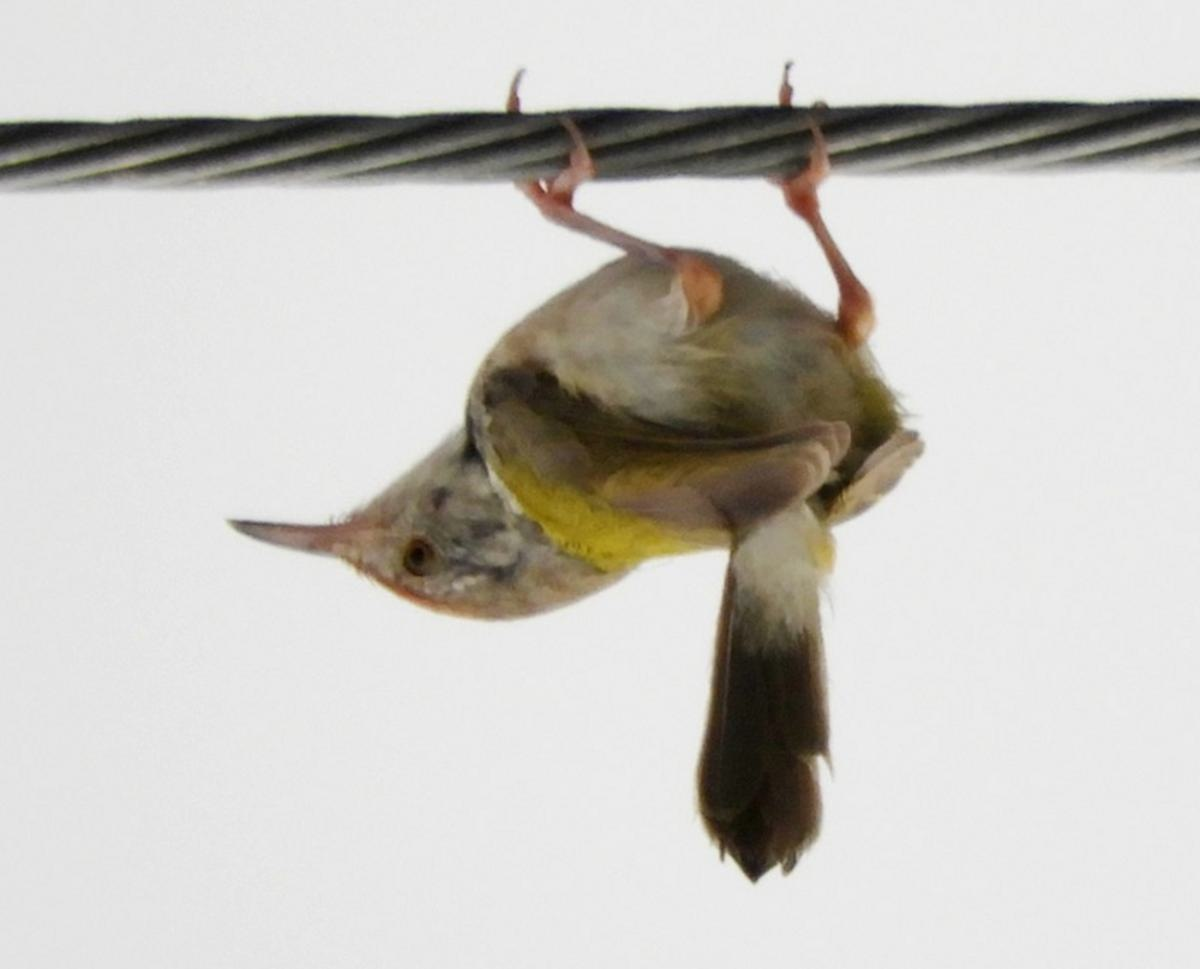tailorbird: (275, 149, 957, 828)
